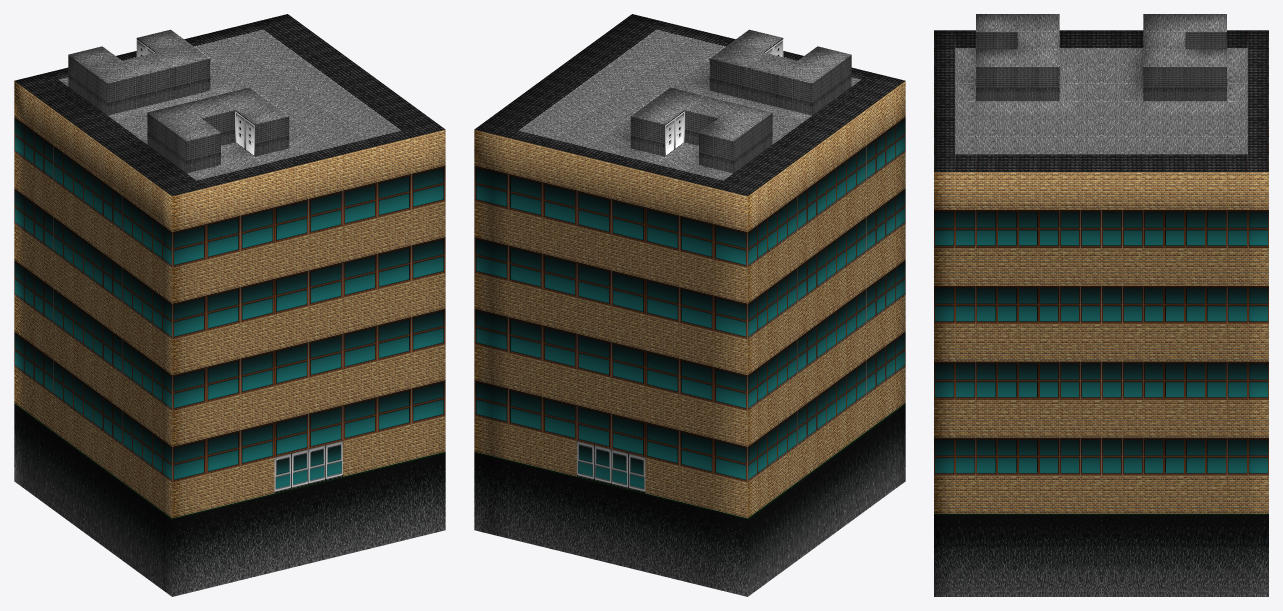
File: kantoor_mod2_3b.fbx
The picture shows the model from 3 angles, left to right: view 1: azimuth 30°, elevation 25°; view 2: azimuth 150°, elevation 25°; view 3: azimuth 270°, elevation 25°; orthographic projection. The views are drawn at different scales.
Visible parts, largest first — view 1: kantoor_mod2_3b; view 2: kantoor_mod2_3b; view 3: kantoor_mod2_3b.
Part boxes in pixels (x1=…): kantoor_mod2_3b: x1=14, y1=14, x2=445, y2=596; kantoor_mod2_3b: x1=474, y1=14, x2=905, y2=596; kantoor_mod2_3b: x1=934, y1=14, x2=1268, y2=596.
Bounding box in the file's own units: 2880 × 4356 × 2880.
